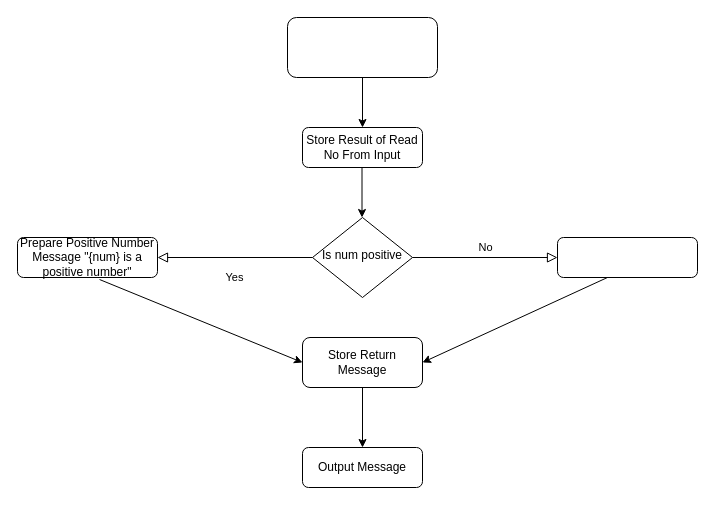
Some shapes in this 715 by 505 pixel diagram are drawn without their labels. Each missing label, with the box of its shape:
Prepare Non-Positive Number Message "{num} is not a positive number": (556, 236, 698, 278)
Read No From Input With Message "Please input a number": (286, 16, 438, 78)
